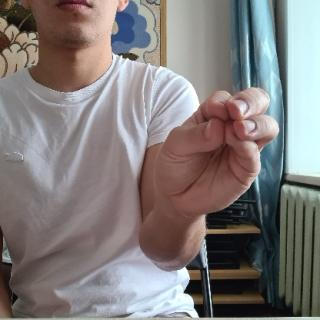HA: (142, 84, 283, 222)
